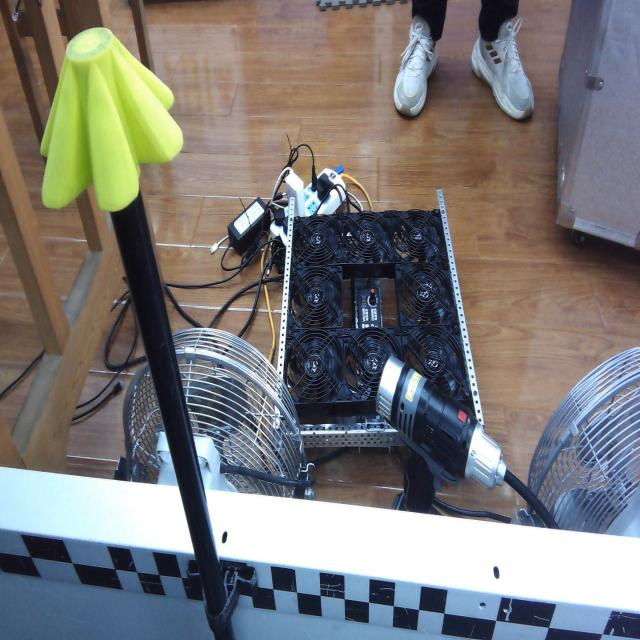Yellow-Stake-Head: (40, 28, 184, 217)
